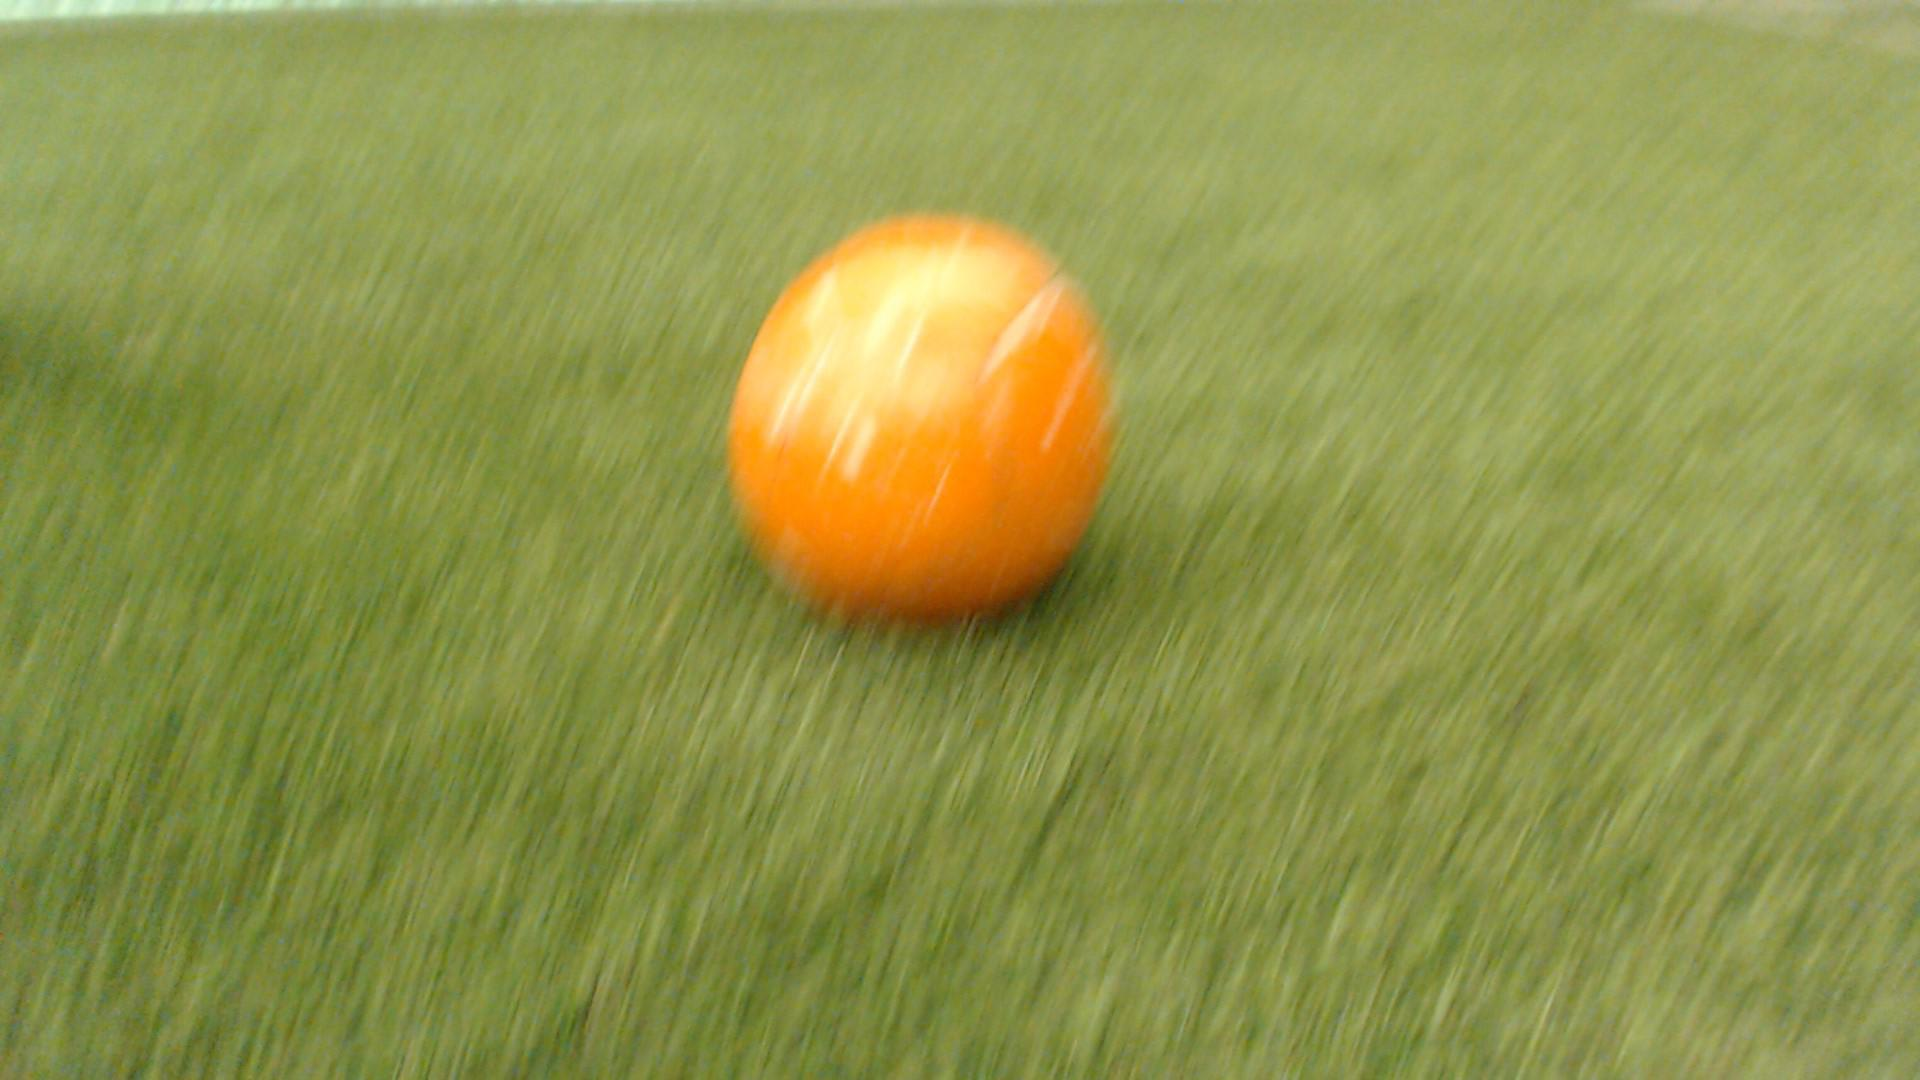bola: (702, 169, 1176, 657)
